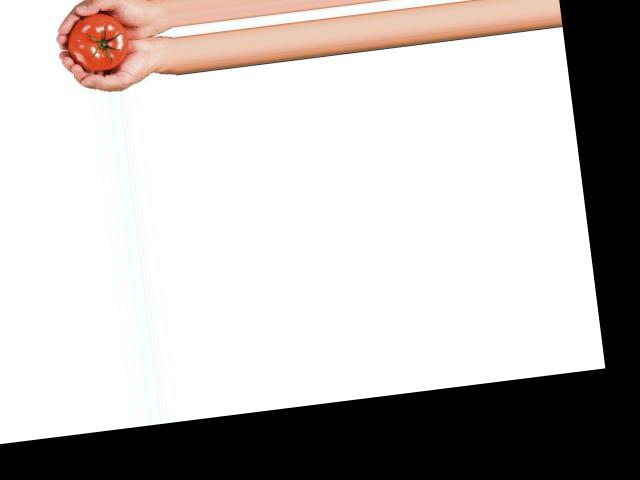tomato: (65, 9, 130, 74)
